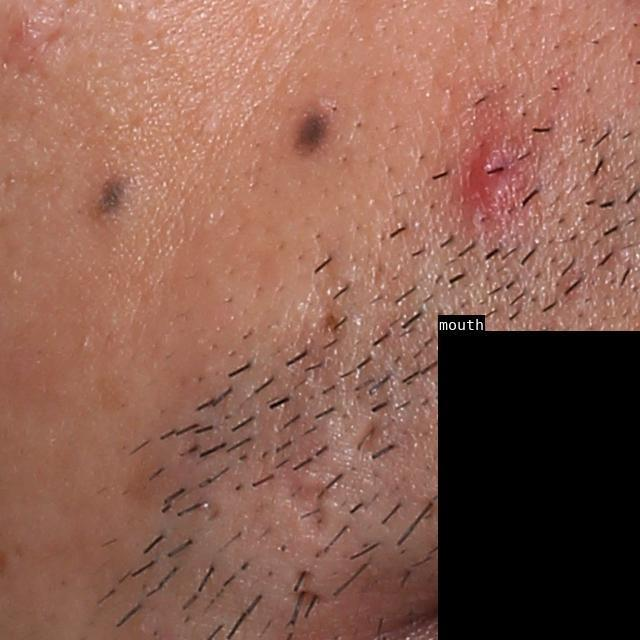atrophic_scar: (339, 403, 396, 457)
nevus: (277, 91, 343, 168), (83, 156, 142, 230)
papule: (461, 117, 530, 216)
